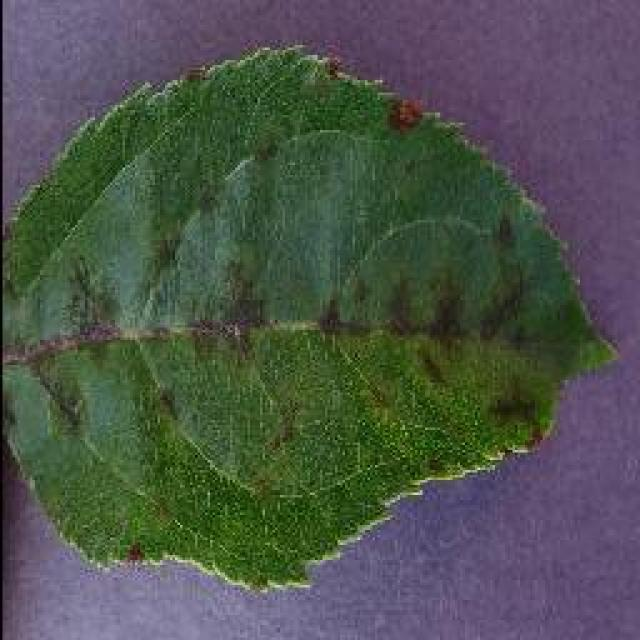apple scab disease: (0, 40, 618, 592)
